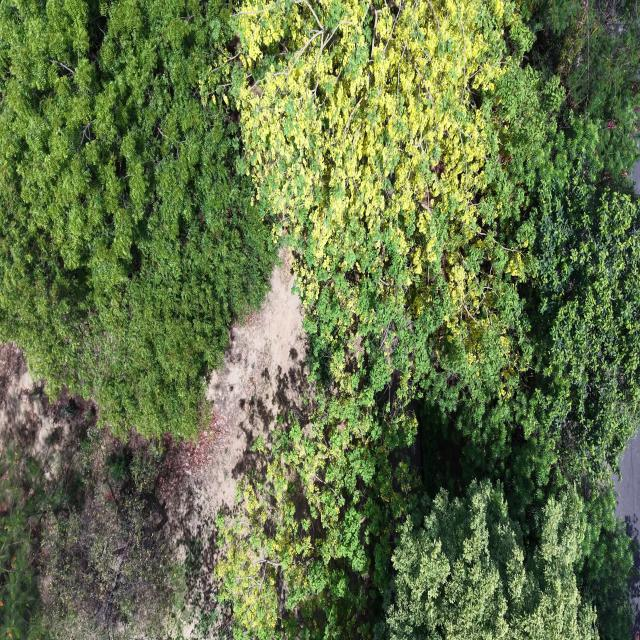DRY_AREA: (161, 254, 309, 637), (164, 254, 310, 602), (165, 257, 309, 608), (168, 258, 309, 610), (167, 254, 308, 598), (174, 259, 308, 578), (167, 260, 306, 515), (172, 261, 307, 516), (200, 261, 306, 510), (0, 343, 96, 486), (0, 344, 96, 479), (0, 343, 54, 456), (612, 434, 639, 542), (633, 162, 639, 194)
PATHWAYS: (614, 435, 639, 542)
VEGETATION_TREE: (0, 0, 639, 639), (219, 2, 639, 637), (236, 2, 563, 636), (0, 0, 274, 437), (0, 413, 186, 639), (379, 480, 631, 639), (385, 481, 598, 639), (42, 428, 182, 639), (523, 0, 639, 179), (577, 488, 636, 639), (0, 448, 45, 639)
